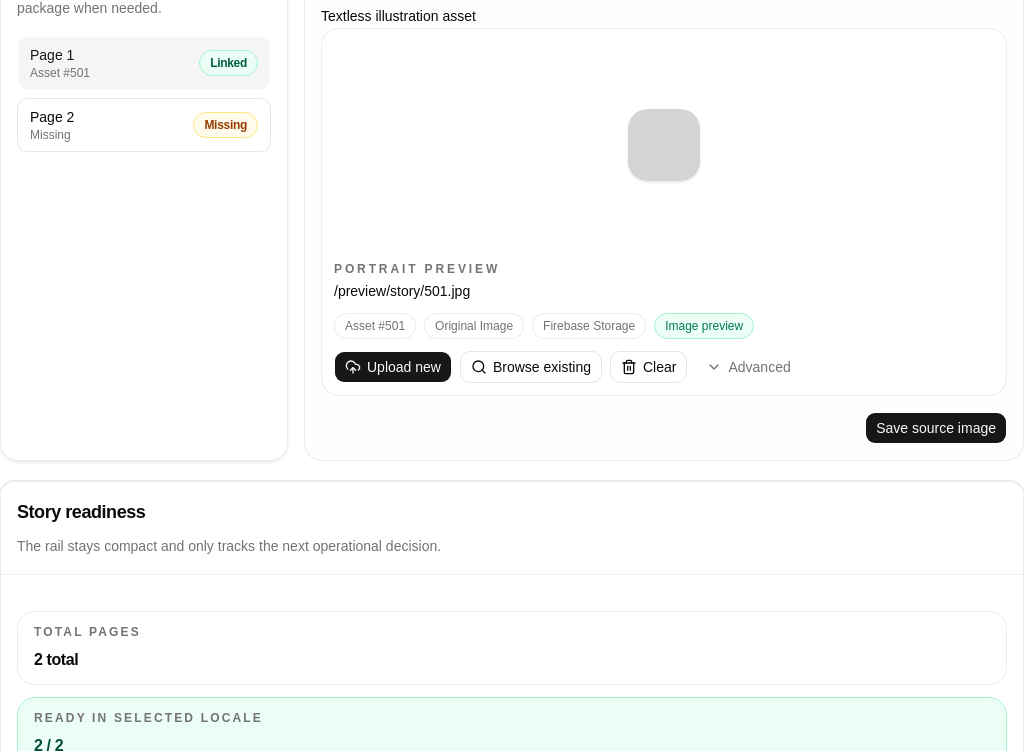
Test: StoryPagesRoute › confirms before leaving a dirty source page image edit
(page scrolled)
Click the button with test id "story-page-textless-illustration-advanced" at (749, 367), box 696,351 -> 802,383
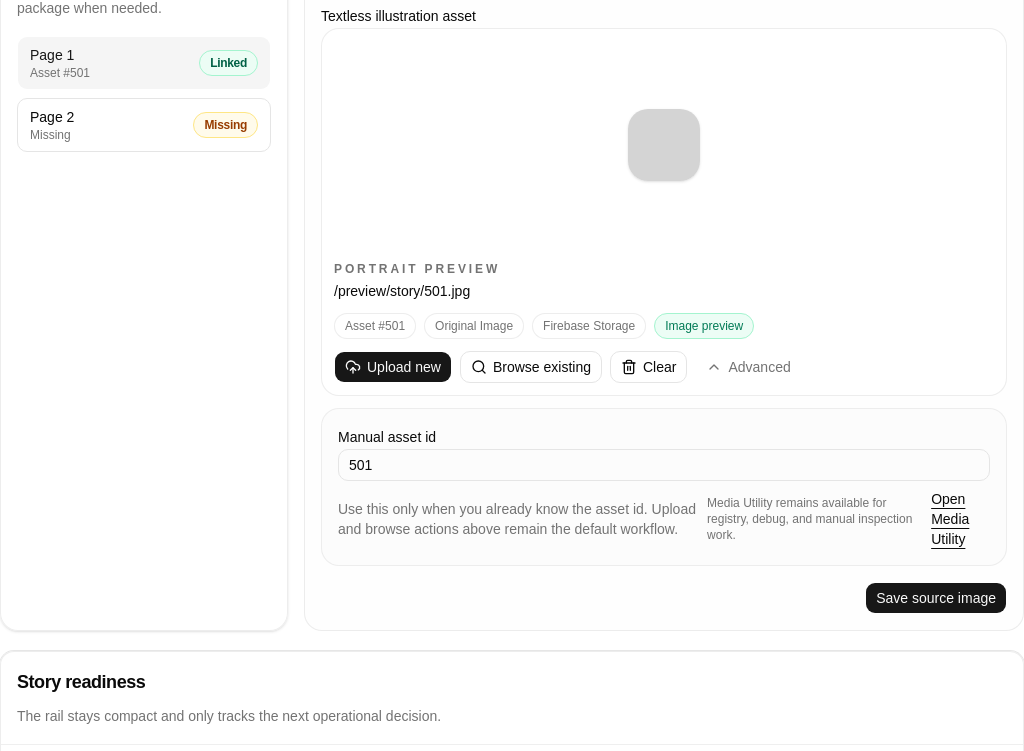
Replace the text in the number field with test id "story-page-textless-illustration-input" with "777" at (664, 465), box 338,449 -> 990,481
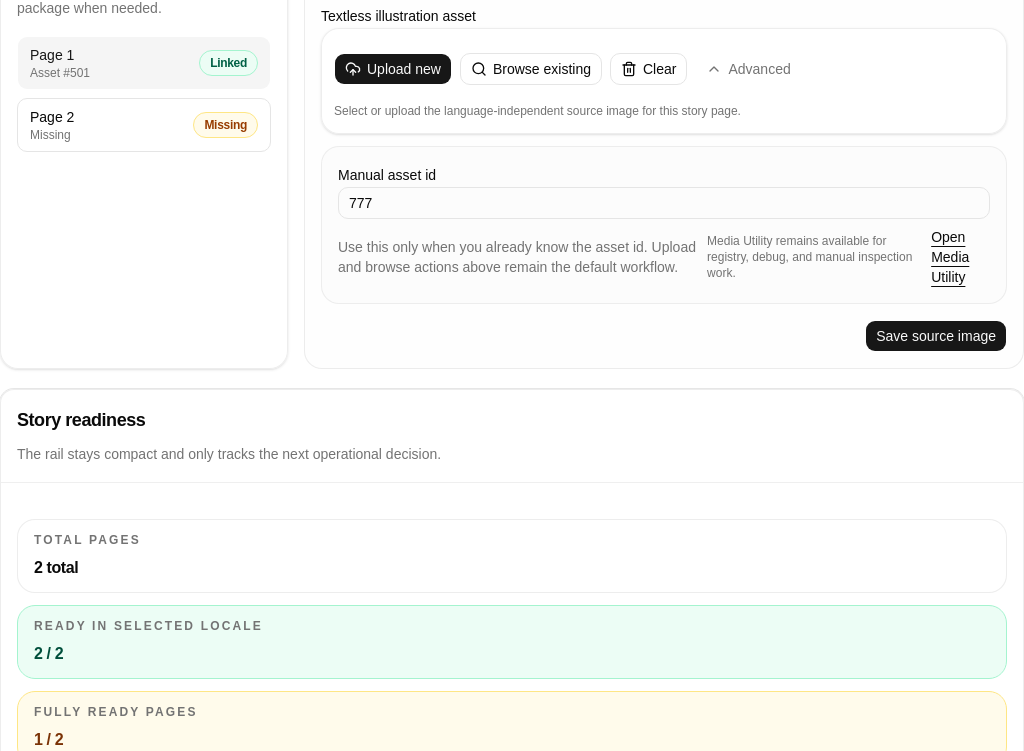
Click the button "Page 2 Missing Missing" at (144, 125), box 17,98 -> 271,152
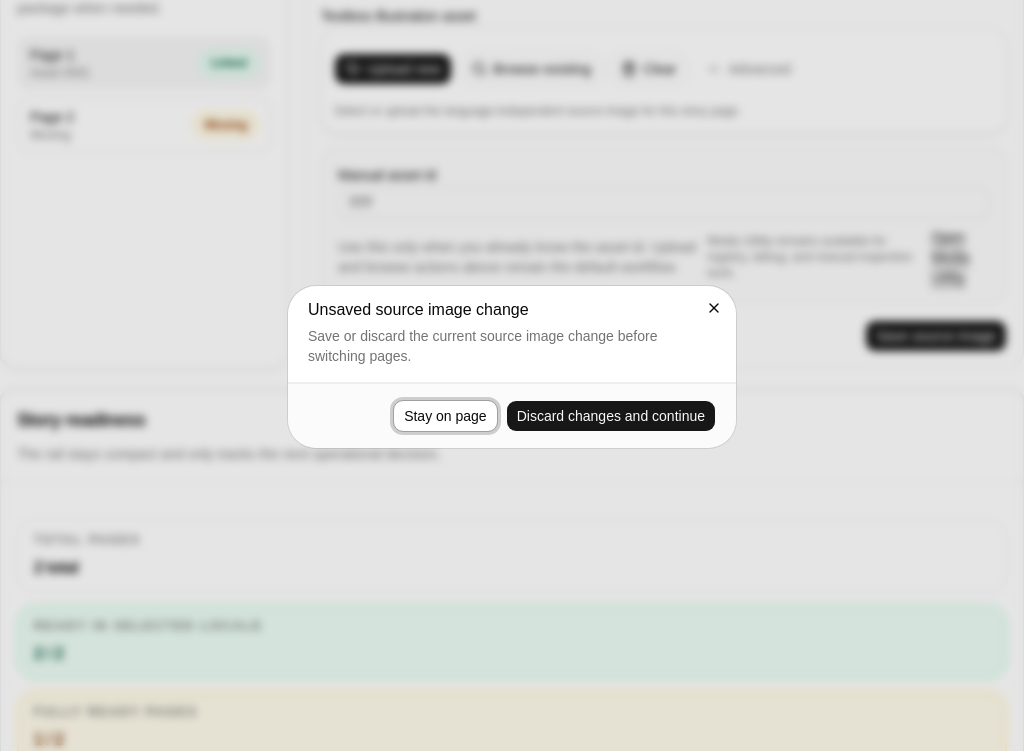
Check: the heading "Unsaved source image change" is shown, box 308,301 -> 529,318
Click the button "Discard changes and continue" at (611, 416), box 506,400 -> 716,432
(page scrolled)
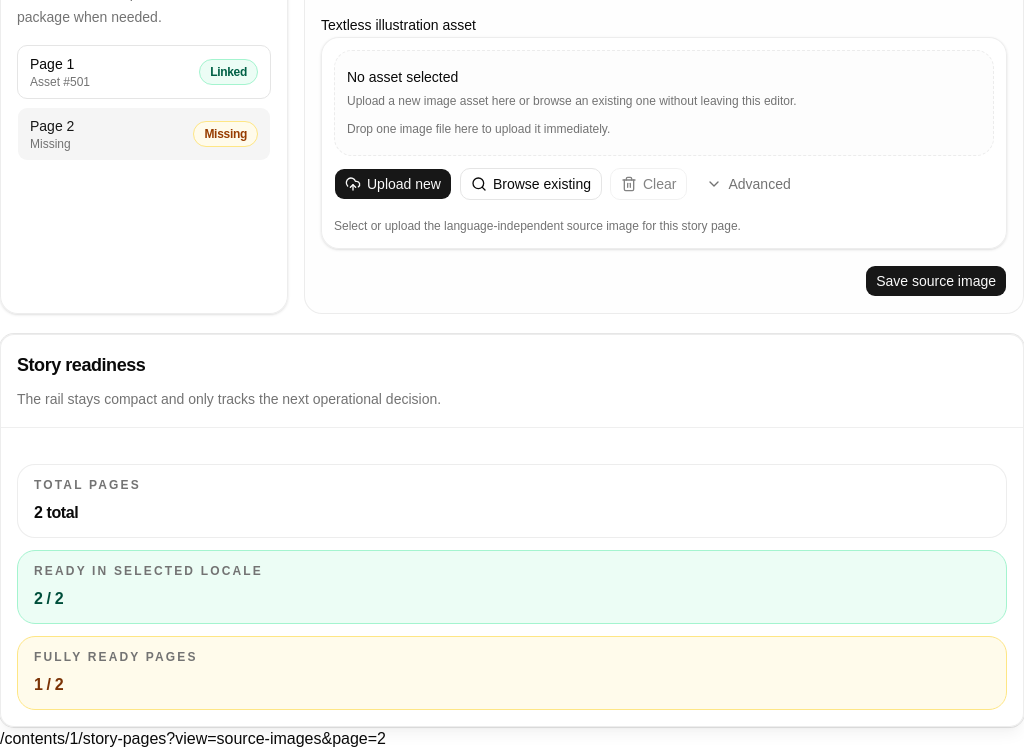
Check: the text with test id "location" reads "/contents/1/story-pages?view=source-images&page=2", box 0,730 -> 386,747
